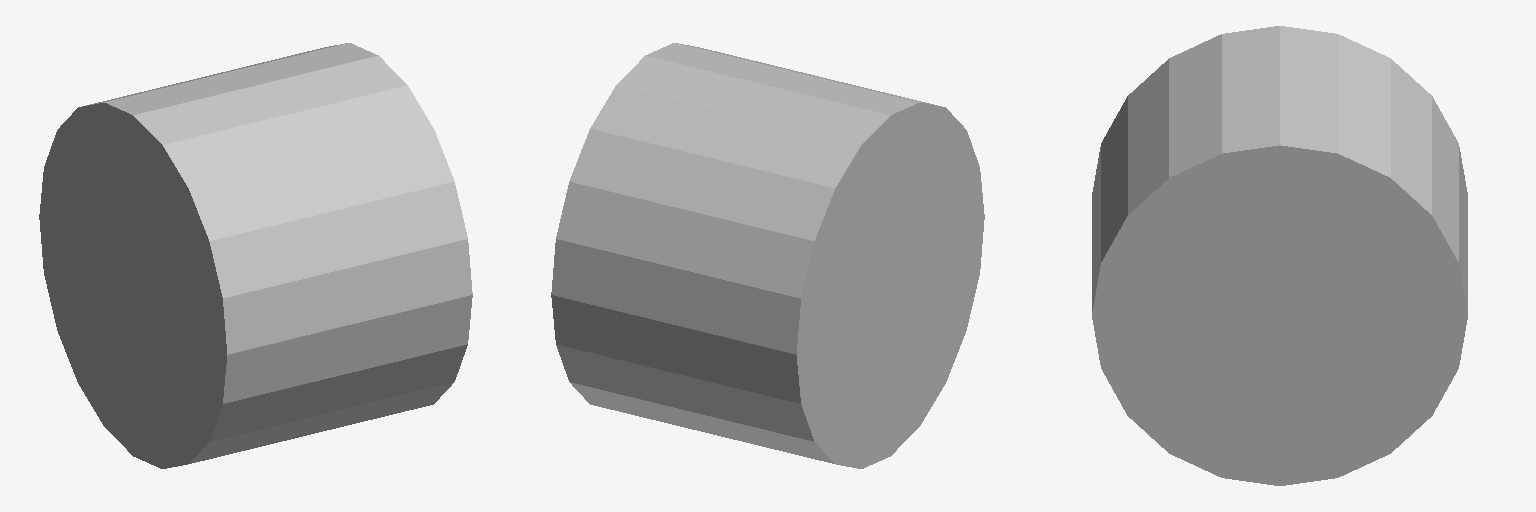
File: Resaltado_Auriculotemporal_D_2.obj
The picture shows the model from 3 angles: view 1: azimuth 30°, elevation 25°; view 2: azimuth 150°, elevation 25°; view 3: azimuth 270°, elevation 25°; orthographic projection.
Parts seen in each view (by area): view 1: polySurface12 Marcadores1; view 2: polySurface12 Marcadores1; view 3: polySurface12 Marcadores1.
Part boxes in pixels (x1,y1,x2,y2): polySurface12 Marcadores1: (39,43,472,468); polySurface12 Marcadores1: (551,43,984,468); polySurface12 Marcadores1: (1092,26,1467,485).
Bounding box in the file's own units: 0.021 × 0.0279 × 0.0279.